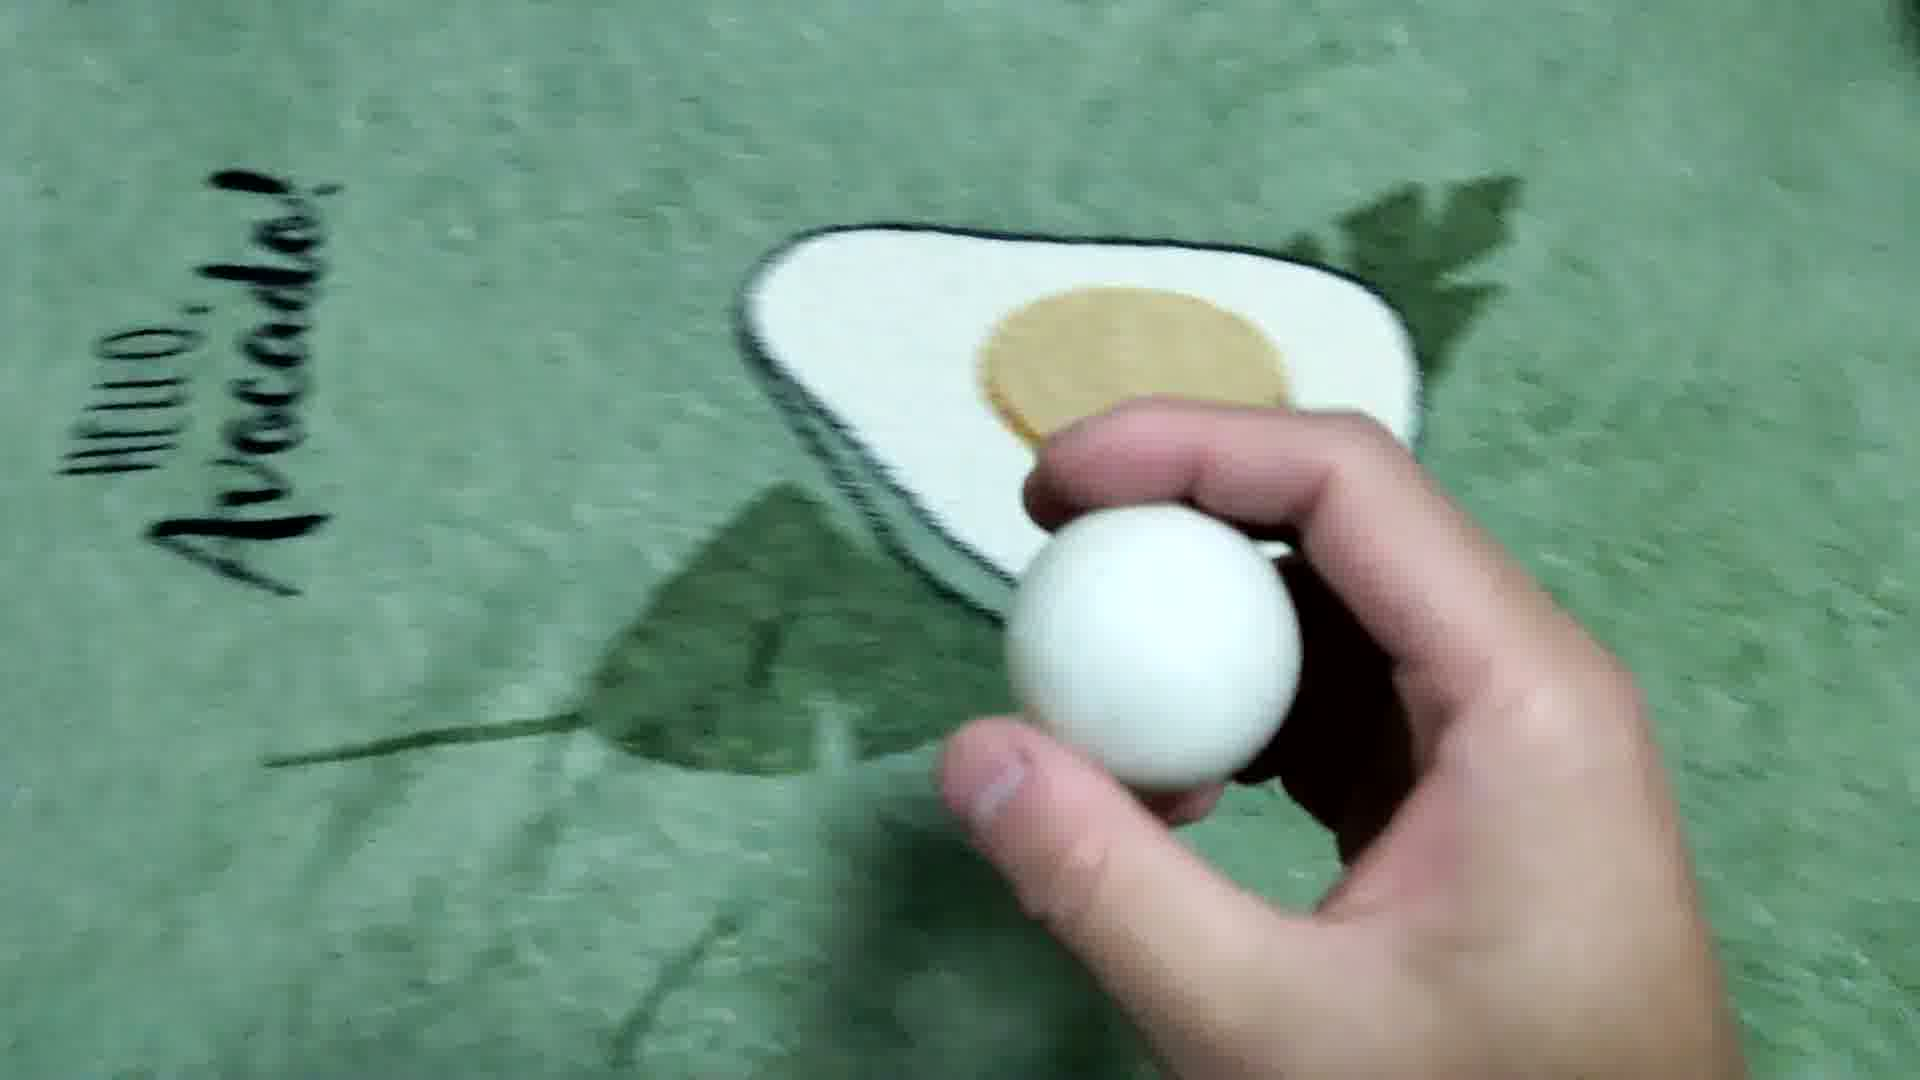Ball: (1004, 506, 1299, 793)
